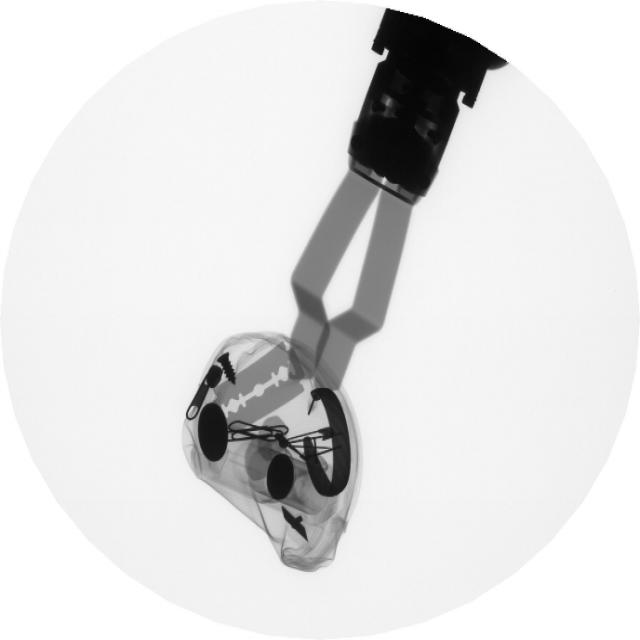BLADE: (200, 335, 308, 440)
SCREW: (209, 338, 253, 388)
